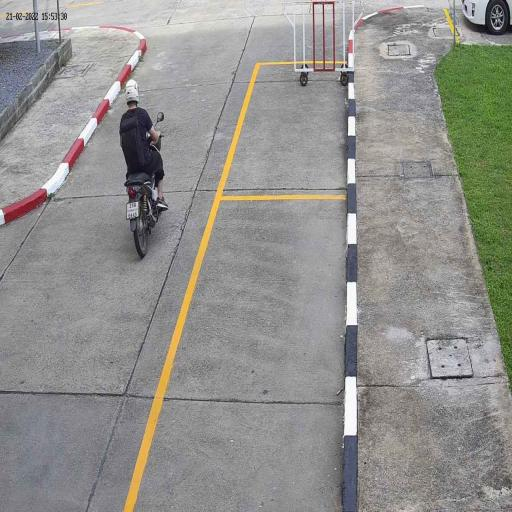motorcycle: (125, 172, 158, 263)
